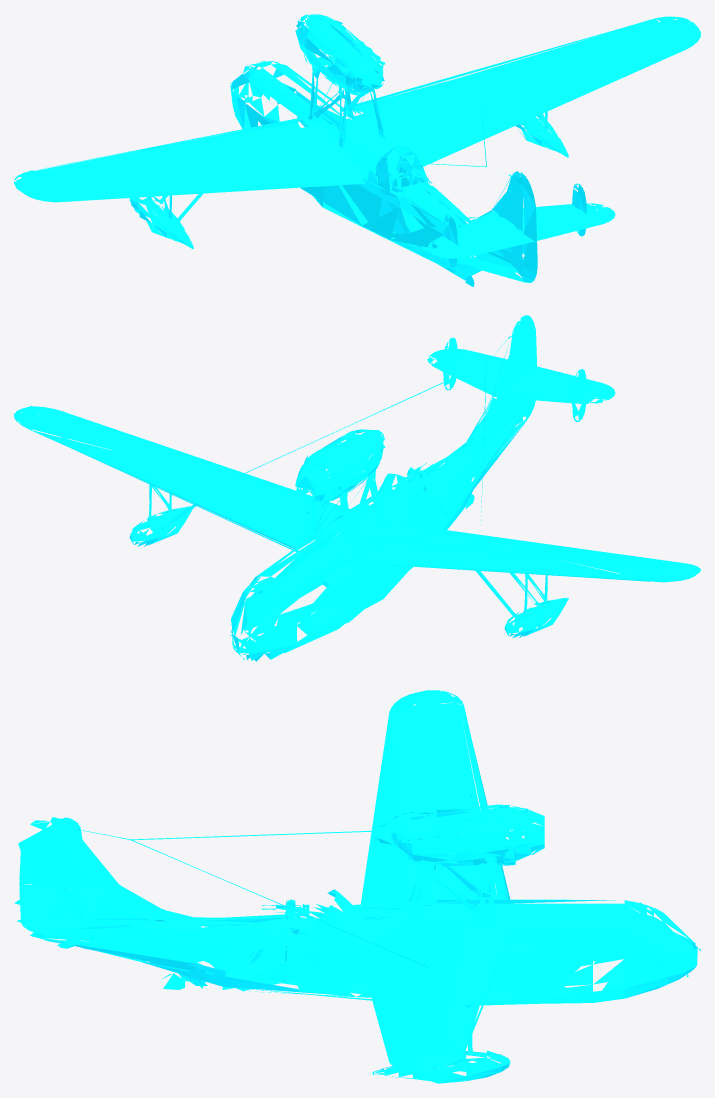
File: PZAS005.glb
3 views of the same model, one above another, from view 1: azimuth 30°, elevation 25°; view 2: azimuth 150°, elevation 25°; view 3: azimuth 270°, elevation 25° (orthographic). The views are drawn at different scales.
Parts seen in each view (by area): view 1: misc; view 2: misc; view 3: misc.
Boxes of the visible parts, x1,y1,x2,y2 form: misc: (14,14,700,286); misc: (14,315,700,661); misc: (14,690,700,1083).
Bounding box in the file's own units: 1.13 × 0.2758 × 0.8704.
